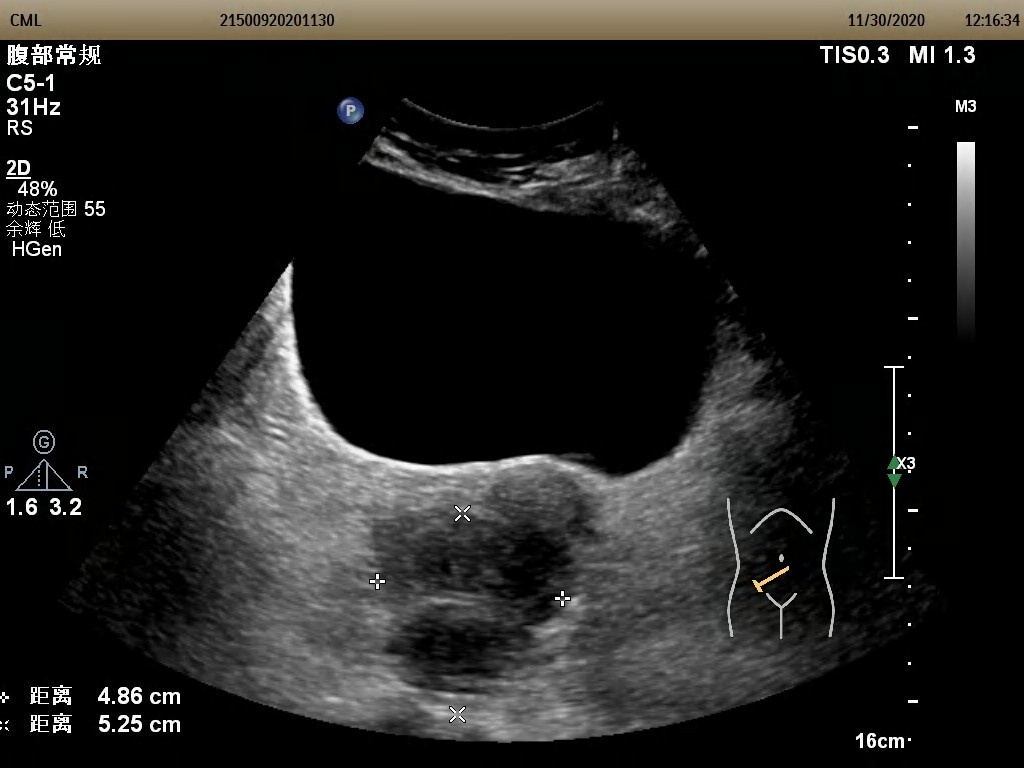肌瘤: (383, 525, 559, 690)
